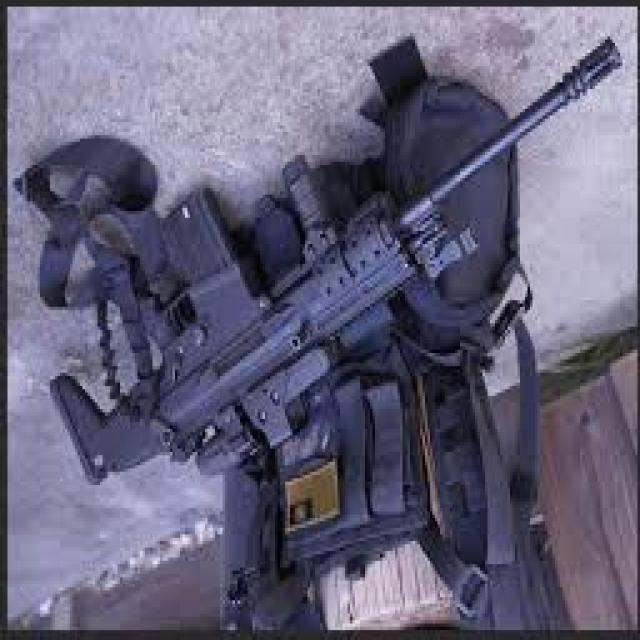Gun: (21, 29, 631, 508)
